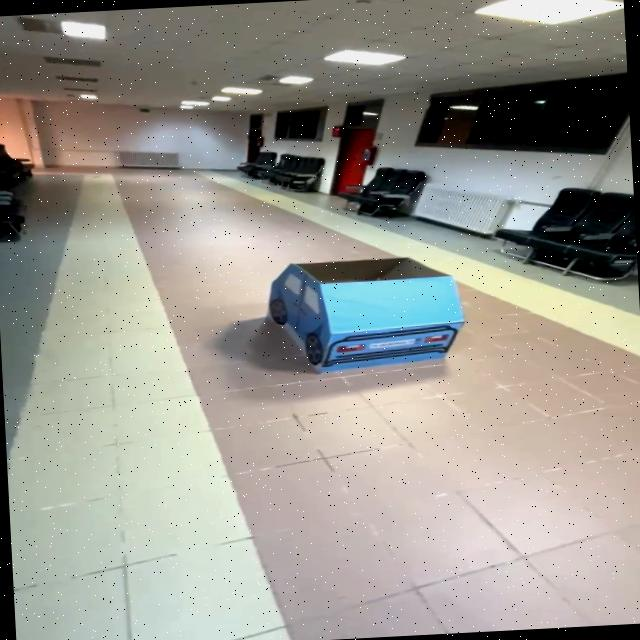blue_car: (233, 234, 498, 397)
